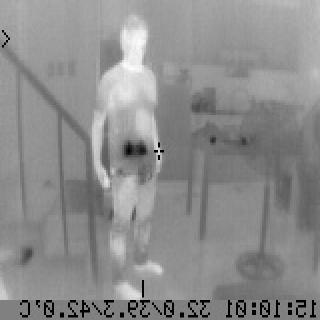Gun: (122, 138, 150, 188)
